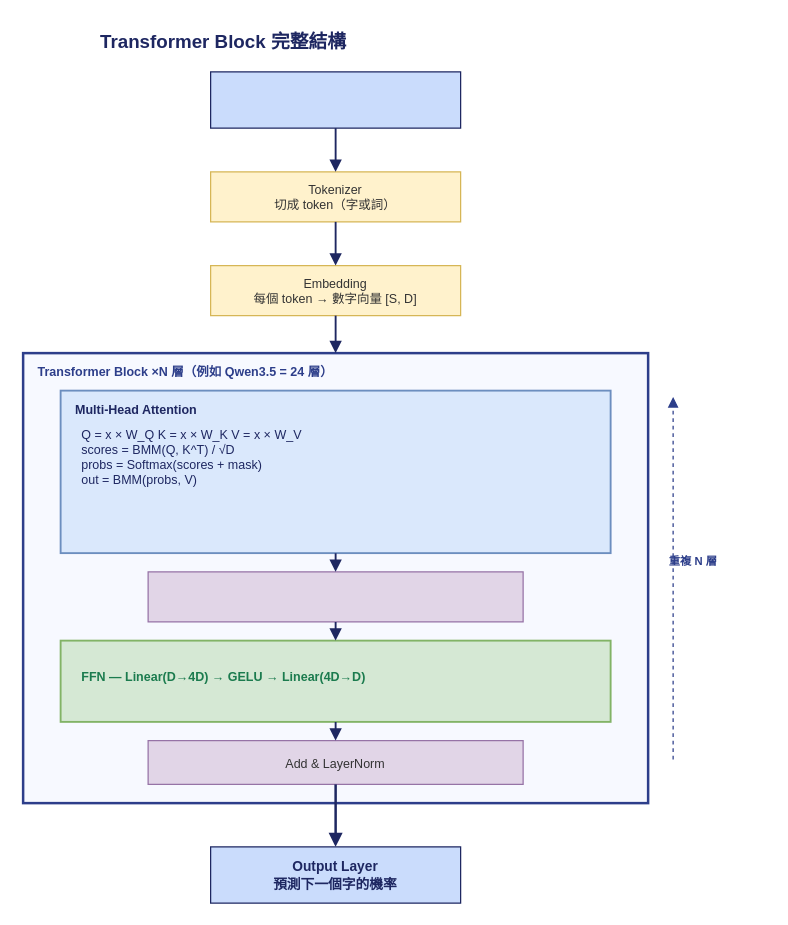
This 788x925 diagram has some shape labels left out. Each missing label, with the box of its shape:
Add & LayerNorm output = LayerNorm(x + Attention(x)): (147, 571, 523, 622)
輸入文字 "今天天氣很好": (209, 71, 461, 128)
